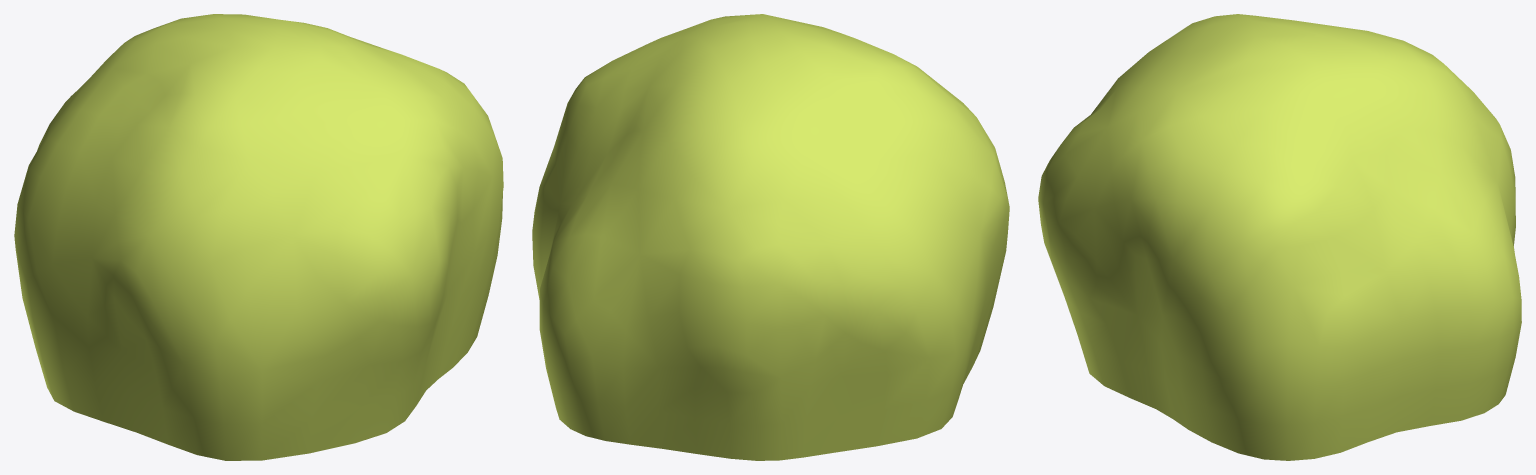
The model's file is BigBush_D.fbx.
3 views of the same model, side by side, from view 1: azimuth 30°, elevation 25°; view 2: azimuth 150°, elevation 25°; view 3: azimuth 270°, elevation 25° (orthographic). The views are drawn at different scales.
Visible parts, largest first — view 1: Bush_b_l_04; view 2: Bush_b_l_04; view 3: Bush_b_l_04.
Part boxes in pixels (box(x1,y1,x2,y2)): Bush_b_l_04: box(14, 14, 503, 460); Bush_b_l_04: box(532, 14, 1009, 460); Bush_b_l_04: box(1038, 14, 1521, 460).
Bounding box in the file's own units: 300 × 219 × 296.
